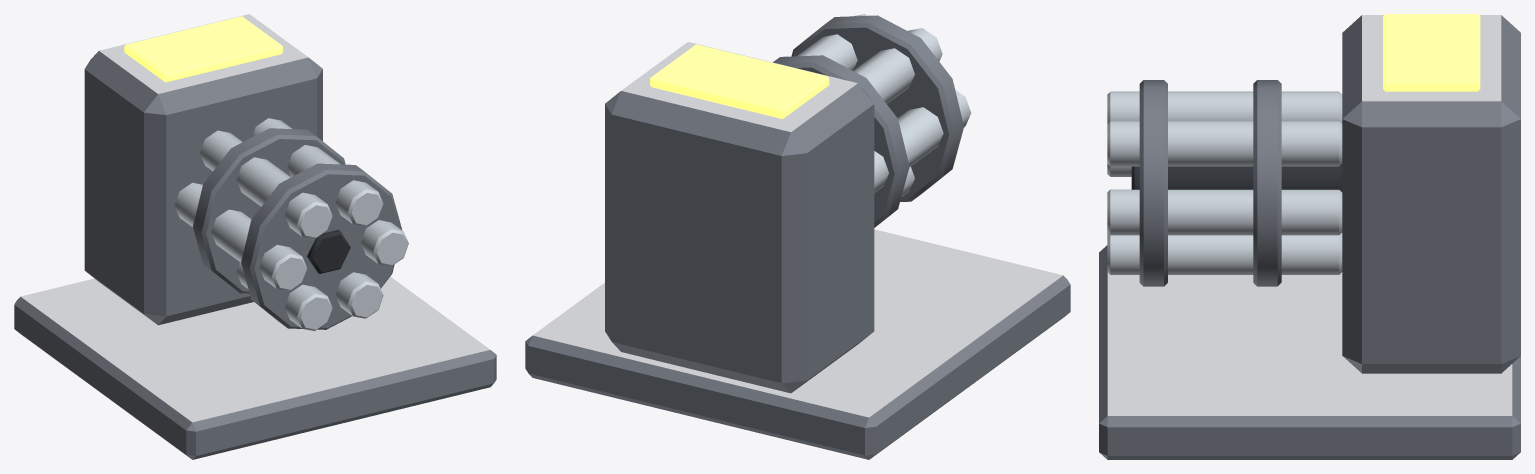
File: R4X_RapidFire_LOD1.fbx
3 renders of one model, left to right at view 1: azimuth 30°, elevation 25°; view 2: azimuth 150°, elevation 25°; view 3: azimuth 270°, elevation 25°, orthographic. The views are drawn at different scales.
Parts seen in each view (by area): view 1: R4X_RapidFire_LOD1; view 2: R4X_RapidFire_LOD1; view 3: R4X_RapidFire_LOD1.
Part boxes in pixels (x1,y1,x2,y2): R4X_RapidFire_LOD1: (14, 14, 496, 459); R4X_RapidFire_LOD1: (525, 14, 1070, 459); R4X_RapidFire_LOD1: (1099, 14, 1520, 459).
Size of the model in its own units: 0.52 by 0.445 by 0.52.
